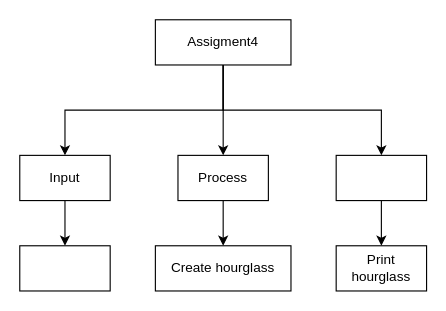
This 446x311 diagram has some shape labels left out. The shapes that lost their labels are listed below. From the top down, each one's centre as x and y in pixels, then its label:
At point (381, 177): "Output".
At point (64, 268): "Get width".
